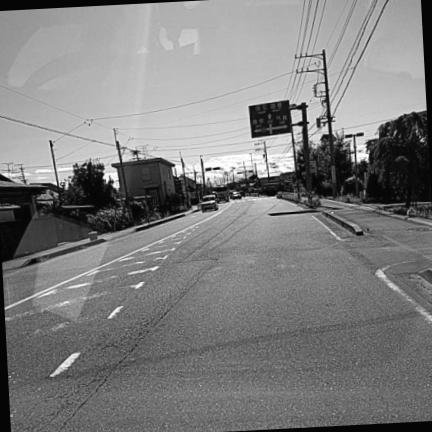Road: (3, 197, 431, 431)
